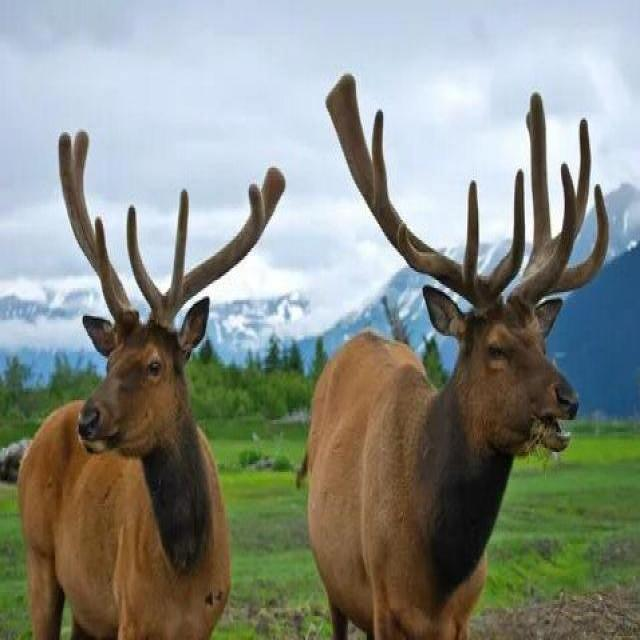deer: (240, 160, 590, 640), (22, 213, 278, 635)
